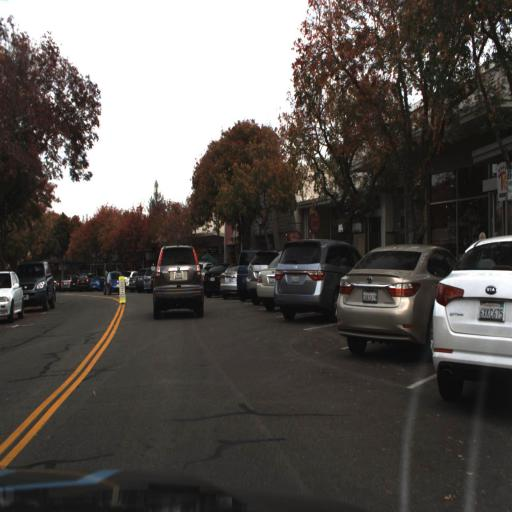car: (433, 232, 511, 412), (337, 238, 456, 352), (274, 234, 364, 322), (275, 238, 352, 316), (148, 243, 204, 322), (16, 260, 55, 312), (244, 250, 273, 300), (255, 255, 278, 312), (0, 270, 23, 323), (246, 251, 268, 301), (256, 252, 275, 309), (202, 263, 224, 299), (234, 248, 247, 300), (220, 261, 236, 299), (103, 270, 127, 294), (75, 270, 89, 294), (88, 272, 102, 294), (120, 270, 136, 288), (60, 274, 74, 291)
